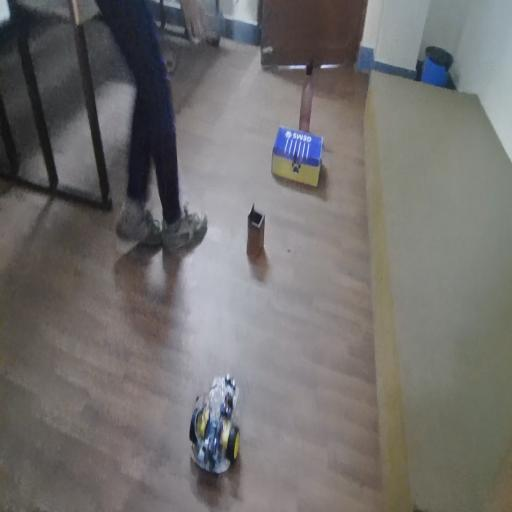Bottle: (304, 56, 326, 157)
car: (175, 373, 254, 448)
